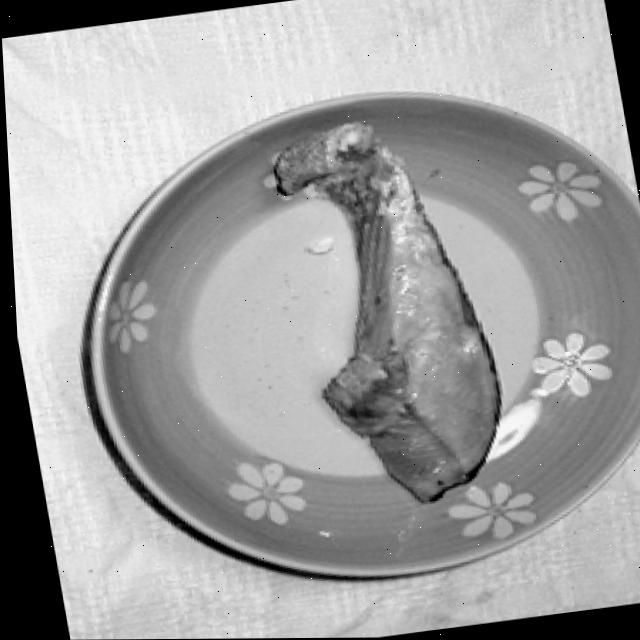熟制海鲜: (251, 74, 553, 523)
